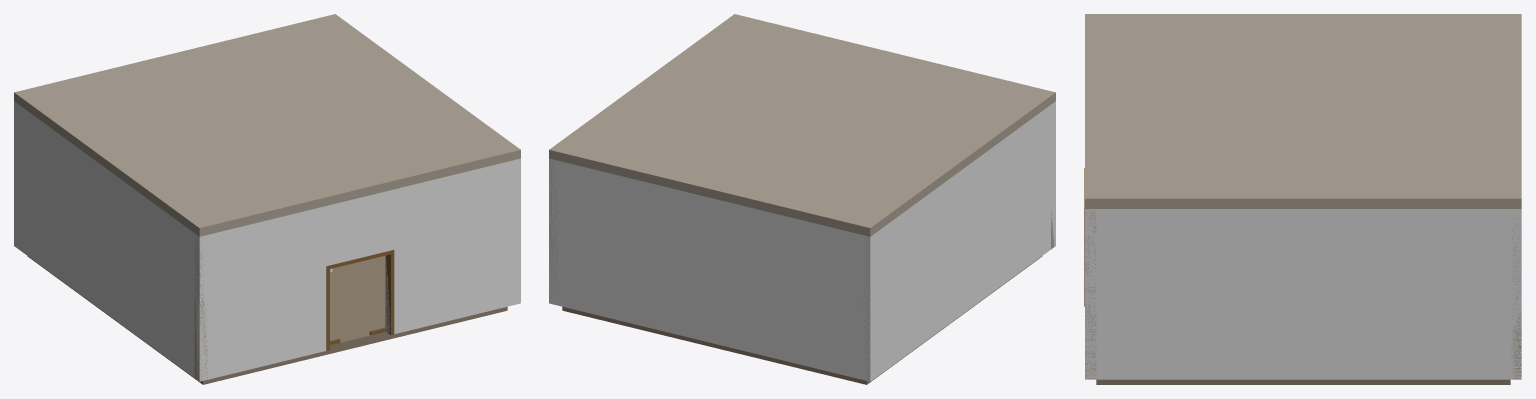
Rendered from simyaciODADII23.fbx.
3 views of the same model, side by side, from view 1: azimuth 30°, elevation 25°; view 2: azimuth 150°, elevation 25°; view 3: azimuth 270°, elevation 25° (orthographic). The views are drawn at different scales.
Parts seen in each view (by area): view 1: Tavan, Duvar_Bati, Duvar_Guney_Ust, Duvar_Guney_Sag, Duvar_Guney_Sol, Zemin, Kose_GuneyBati, Kapi_Sag_Sove, Duvar_Dogu; view 2: Tavan, Duvar_Kuzey, Duvar_Bati, Zemin, Duvar_Dogu; view 3: Tavan, Duvar_Dogu, Zemin, Duvar_Kuzey, Kose_GuneyDogu, Kose_KuzeyDogu, Duvar_Guney_Ust.
Boxes of the visible parts, x1,y1,x2,y2 form: Tavan: (14,14,520,236); Duvar_Bati: (14,101,207,381); Duvar_Guney_Ust: (194,158,520,300); Duvar_Guney_Sag: (386,224,517,334); Duvar_Guney_Sol: (194,270,326,380); Zemin: (27,255,507,384); Kose_GuneyBati: (194,235,207,380); Kapi_Sag_Sove: (385,253,394,335); Duvar_Dogu: (513,159,520,304); Tavan: (549,14,1055,236); Duvar_Kuzey: (549,158,875,381); Duvar_Bati: (862,101,1055,381); Zemin: (562,256,1042,384); Duvar_Dogu: (549,159,557,305); Tavan: (1085,14,1521,208); Duvar_Dogu: (1085,209,1521,379); Zemin: (1096,379,1510,384); Duvar_Kuzey: (1510,209,1521,379); Kose_GuneyDogu: (1085,209,1096,379); Kose_KuzeyDogu: (1511,211,1521,379); Duvar_Guney_Ust: (1085,209,1096,283).
Bounding box in the file's own units: 1160 × 560 × 1162.
